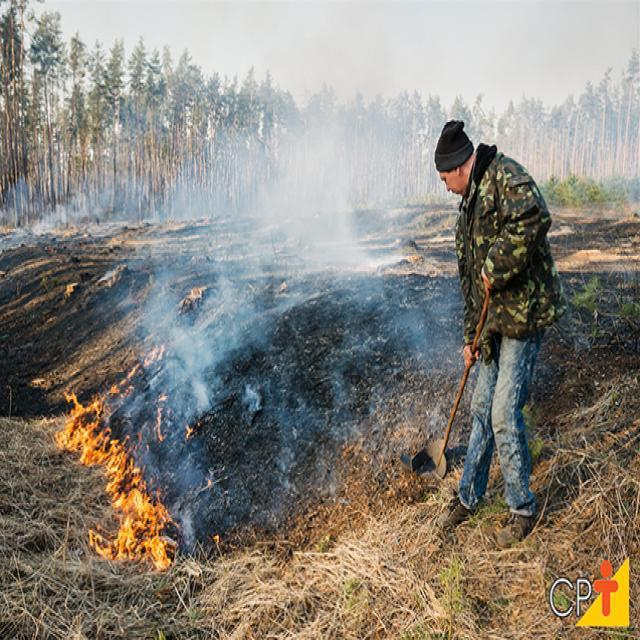Fire: (59, 396, 174, 570), (100, 347, 165, 404), (186, 426, 200, 442)
Smoke: (0, 125, 412, 285), (166, 283, 266, 401)
